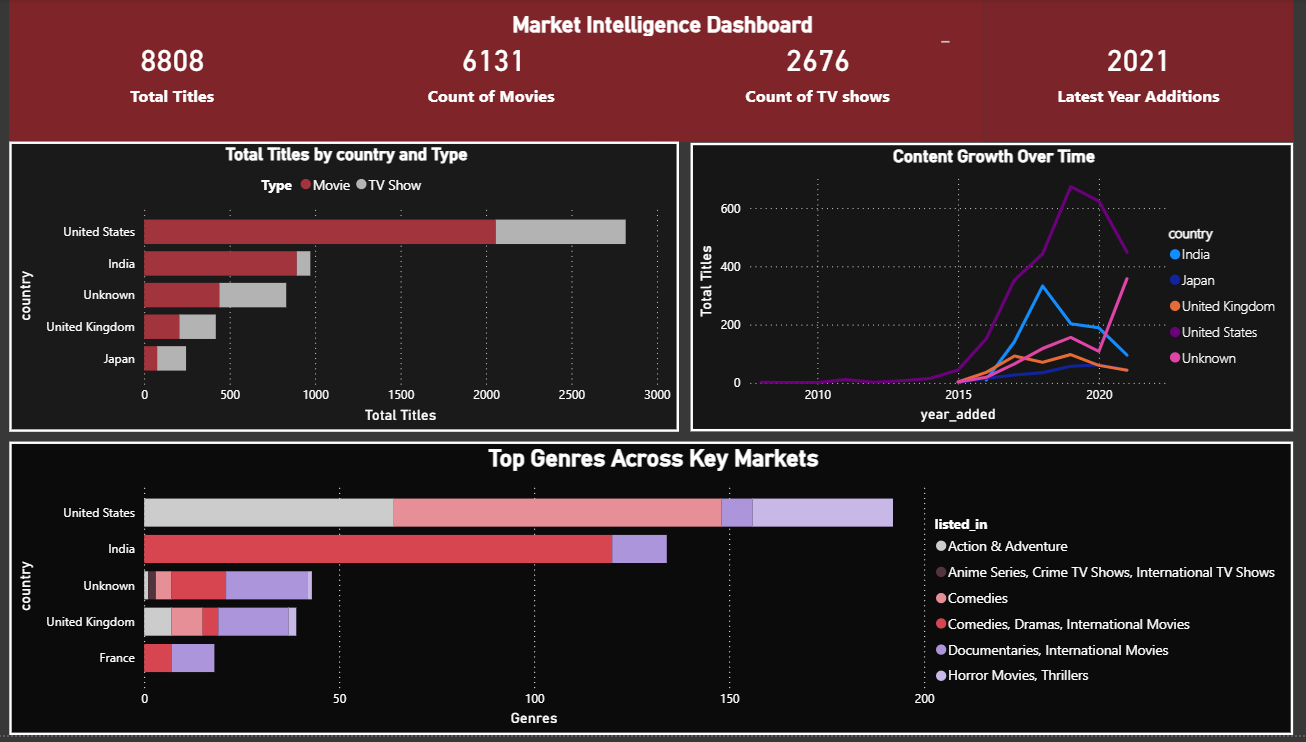

The page's visual inventory and layout, read from the dashboard file:
{"tool":"powerbi","page":{"name":"Market Intelligence Dashboard","canvas":[1280,720],"ordinal":1},"visuals":[{"type":"card","fields":{"Values":["netflix_dashboard_ready.Total Titles"]},"box":[11,0,319.2,139.4],"z":0},{"type":"card","fields":{"Values":["CountNonNull(netflix_dashboard_ready.type)"]},"box":[640,0,325,139.7],"z":1000},{"type":"card","fields":{"Values":["CountNonNull(netflix_dashboard_ready.type)"]},"box":[330.7,0,309.3,139.7],"z":2000},{"type":"card","fields":{"Values":["Max(netflix_dashboard_ready.year_added)"]},"box":[964.8,0,302,139.4],"z":3000},{"type":"lineChart","title":"Content Growth Over Time","fields":{"Category":["netflix_dashboard_ready.year_added"],"Y":["netflix_dashboard_ready.Total Titles"],"Series":["netflix_dashboard_ready.country"]},"box":[677.4,140.6,589.4,282.5],"z":4000},{"type":"barChart","title":"Top Genres Across Key Markets","fields":{"Category":["netflix_dashboard_ready.country"],"Y":["netflix_dashboard_ready.Total Titles"],"Series":["netflix_dashboard_ready.listed_in"]},"box":[11,432.9,1255.8,287.4],"z":5000},{"type":"barChart","fields":{"Y":["netflix_dashboard_ready.Total Titles"],"Category":["netflix_dashboard_ready.country"],"Series":["netflix_dashboard_ready.type"]},"box":[11,139.4,655.4,283.7],"z":6000},{"type":"textbox","title":"Market Intelligence Dashboard","box":[364.9,12.8,571.6,35.6],"z":7000}]}

Visuals, with their boxes in screenshot pixels (x1, y1, x2, y2), scaled from the page's 1280x720 canvas onto the 1306x742 screenshot:
card - netflix_dashboard_ready.Total Titles: {"left": 11, "top": 0, "right": 337, "bottom": 144}
card - CountNonNull(netflix_dashboard_ready.type): {"left": 653, "top": 0, "right": 985, "bottom": 144}
card - CountNonNull(netflix_dashboard_ready.type): {"left": 337, "top": 0, "right": 653, "bottom": 144}
card - Max(netflix_dashboard_ready.year_added): {"left": 984, "top": 0, "right": 1293, "bottom": 144}
"Content Growth Over Time" lineChart: {"left": 691, "top": 145, "right": 1293, "bottom": 436}
"Top Genres Across Key Markets" barChart: {"left": 11, "top": 446, "right": 1293, "bottom": 741}
barChart - netflix_dashboard_ready.Total Titles x netflix_dashboard_ready.country: {"left": 11, "top": 144, "right": 680, "bottom": 436}
"Market Intelligence Dashboard" textbox: {"left": 372, "top": 13, "right": 956, "bottom": 50}
